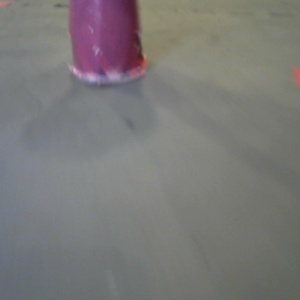middle: (60, 1, 131, 60)
